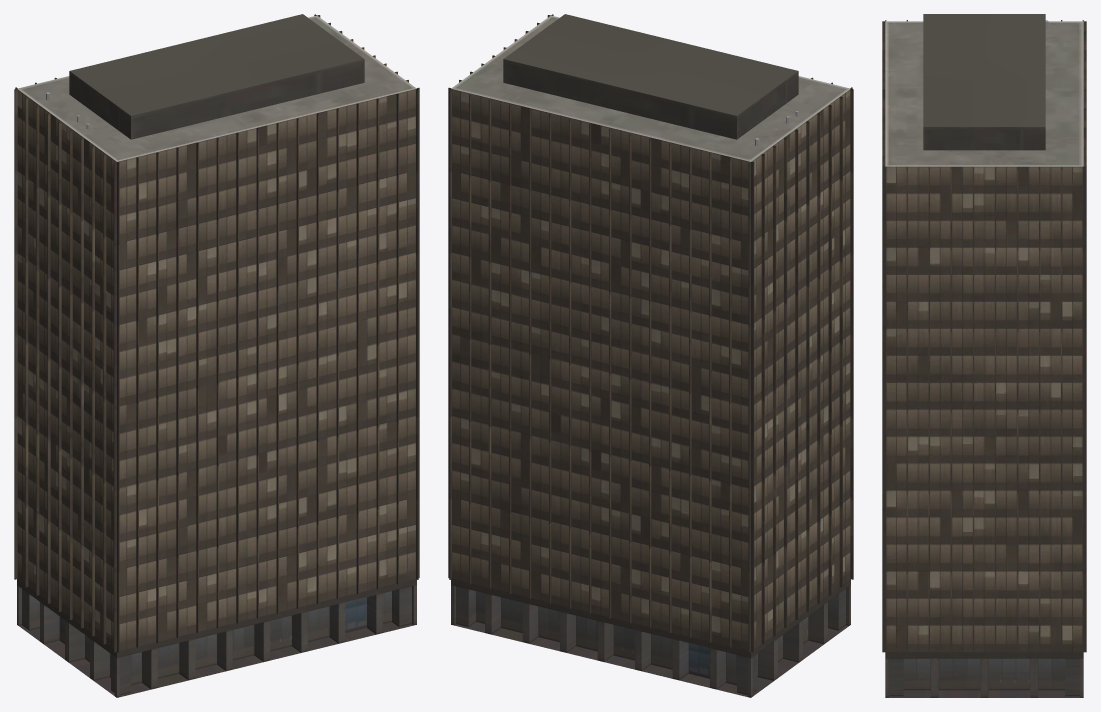
File: sf_glassslab_a.glb
The picture shows the model from 3 angles, left to right: view 1: azimuth 30°, elevation 25°; view 2: azimuth 150°, elevation 25°; view 3: azimuth 270°, elevation 25°; orthographic projection.
Visible parts, largest first — view 1: sf_glassslab_a; view 2: sf_glassslab_a; view 3: sf_glassslab_a.
Boxes of the visible parts, left/top/right/bottom form: sf_glassslab_a: left=14, top=14, right=419, bottom=697; sf_glassslab_a: left=448, top=14, right=853, bottom=697; sf_glassslab_a: left=882, top=14, right=1086, bottom=697.
Bounding box in the file's own units: 45.8 × 80.2 × 26.8.
Materials: 1 (1 with a texture image).
